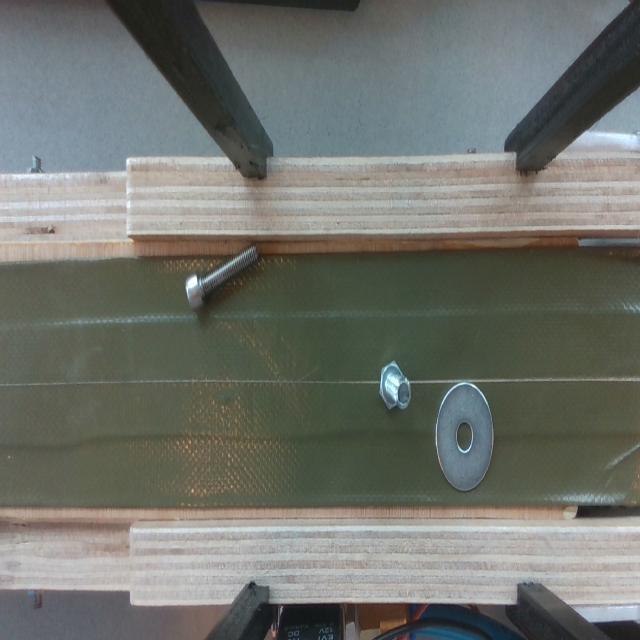Bolt: (185, 245, 258, 309), (380, 362, 411, 409)
washer: (435, 383, 494, 490)
